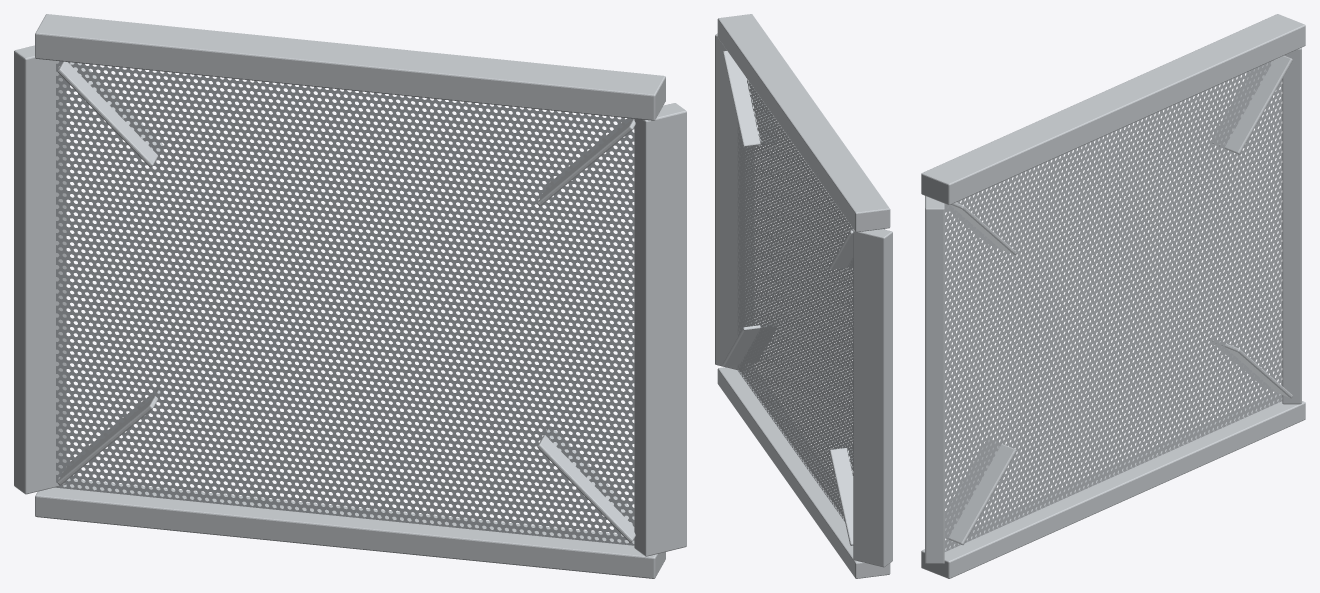
3 renders of one model, left to right at view 1: azimuth 30°, elevation 25°; view 2: azimuth 150°, elevation 25°; view 3: azimuth 270°, elevation 25°, orthographic. The views are drawn at different scales.
Parts seen in each view (by area): view 1: K2_-1_-1 blacha, K2_-1_-1 gorny, K2_-1_-1 pion.001, K2_-1_-1 dolny, K2_-1_-1 pion, K2_-1_-1 skos dol.001, K2_-1_-1 skos gora, K2_-1_-1 skos dol, K2_-1_-1 skos gora.001; view 2: K2_-1_-1 blacha, K2_-1_-1 pion, K2_-1_-1 gorny, K2_-1_-1 pion.001, K2_-1_-1 dolny, K2_-1_-1 skos gora.001, K2_-1_-1 skos dol, K2_-1_-1 skos dol.001, K2_-1_-1 skos gora; view 3: K2_-1_-1 blacha, K2_-1_-1 gorny, K2_-1_-1 dolny, K2_-1_-1 pion.001, K2_-1_-1 pion, K2_-1_-1 skos dol.001, K2_-1_-1 skos gora, K2_-1_-1 skos dol, K2_-1_-1 skos gora.001.
Boxes of the visible parts, <box> form: K2_-1_-1 blacha: <box>55,61,634,545</box>; K2_-1_-1 gorny: <box>35,14,665,120</box>; K2_-1_-1 pion.001: <box>634,103,686,556</box>; K2_-1_-1 dolny: <box>35,478,665,578</box>; K2_-1_-1 pion: <box>14,45,66,494</box>; K2_-1_-1 skos dol.001: <box>537,425,635,542</box>; K2_-1_-1 skos gora: <box>57,61,163,167</box>; K2_-1_-1 skos dol: <box>57,386,162,485</box>; K2_-1_-1 skos gora.001: <box>537,118,635,206</box>; K2_-1_-1 blacha: <box>737,77,853,521</box>; K2_-1_-1 pion: <box>853,229,892,567</box>; K2_-1_-1 gorny: <box>717,14,890,232</box>; K2_-1_-1 pion.001: <box>715,33,754,371</box>; K2_-1_-1 dolny: <box>717,367,890,578</box>; K2_-1_-1 skos gora.001: <box>722,51,778,147</box>; K2_-1_-1 skos dol: <box>829,448,853,545</box>; K2_-1_-1 skos dol.001: <box>722,323,777,366</box>; K2_-1_-1 skos gora: <box>829,229,884,269</box>; K2_-1_-1 blacha: <box>944,60,1282,551</box>; K2_-1_-1 gorny: <box>921,14,1305,205</box>; K2_-1_-1 dolny: <box>921,393,1305,578</box>; K2_-1_-1 pion.001: <box>925,196,944,563</box>; K2_-1_-1 pion: <box>1282,47,1301,404</box>; K2_-1_-1 skos dol.001: <box>945,439,1016,545</box>; K2_-1_-1 skos gora: <box>1212,55,1292,154</box>; K2_-1_-1 skos dol: <box>1212,339,1292,398</box>; K2_-1_-1 skos gora.001: <box>945,202,1016,254</box>.
Bounding box in the file's own units: 0.5315 × 0.555 × 0.4896.
Materials: 2 (1 with a texture image).
